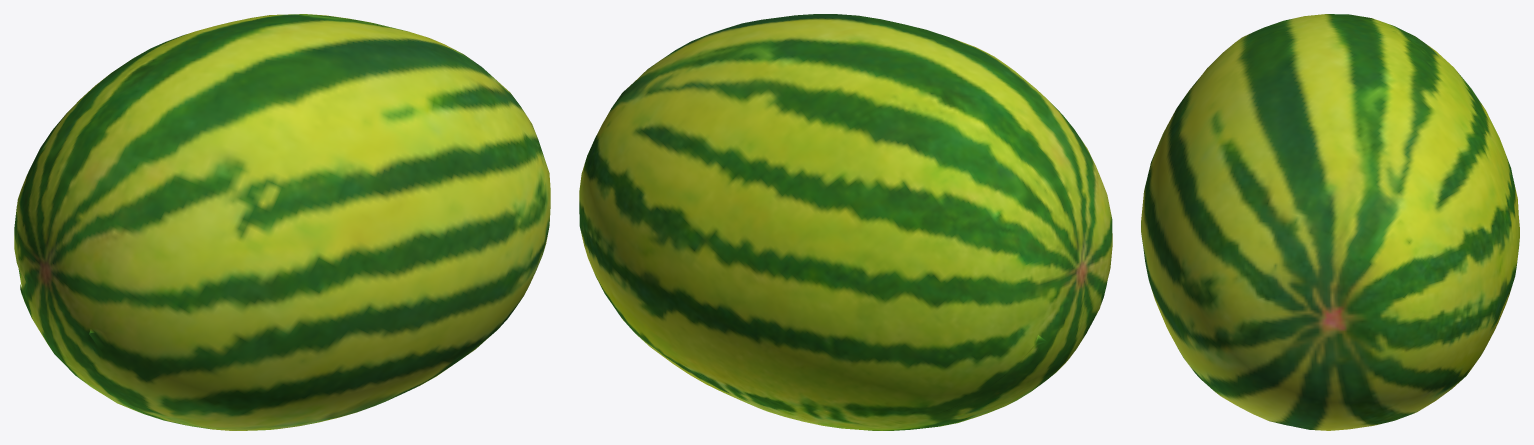
Rendered from suica-watermelon.glb.
3 renders of one model, left to right at view 1: azimuth 30°, elevation 25°; view 2: azimuth 150°, elevation 25°; view 3: azimuth 270°, elevation 25°, orthographic. The views are drawn at different scales.
Visible parts, largest first — view 1: Mesh; view 2: Mesh; view 3: Mesh.
Part boxes in pixels (x1,y1,x2,y2): Mesh: (14,14,550,430); Mesh: (579,14,1112,430); Mesh: (1141,14,1519,430).
Bounding box in the file's own units: 141 × 106 × 106.
Materials: 1 (1 with a texture image).
